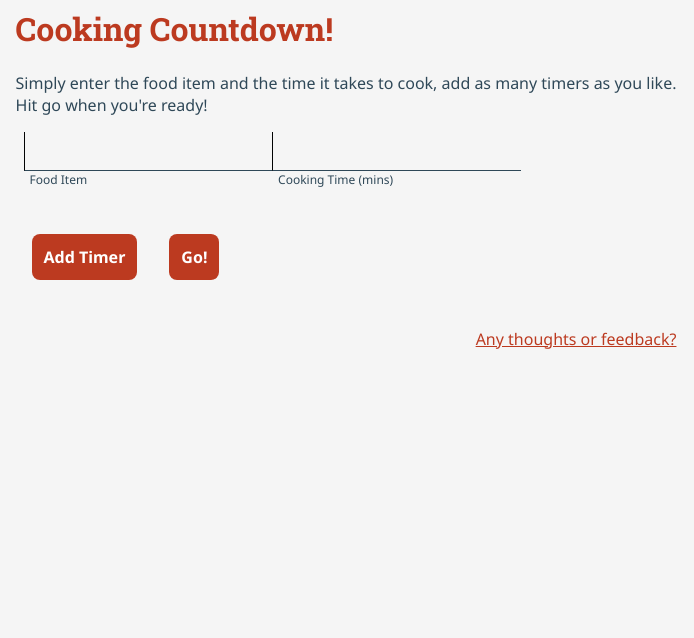
Scenario: <App /> › renders minute or minutes correctly
Click the button "Add Timer" at (84, 257), box [32,234,137,280]
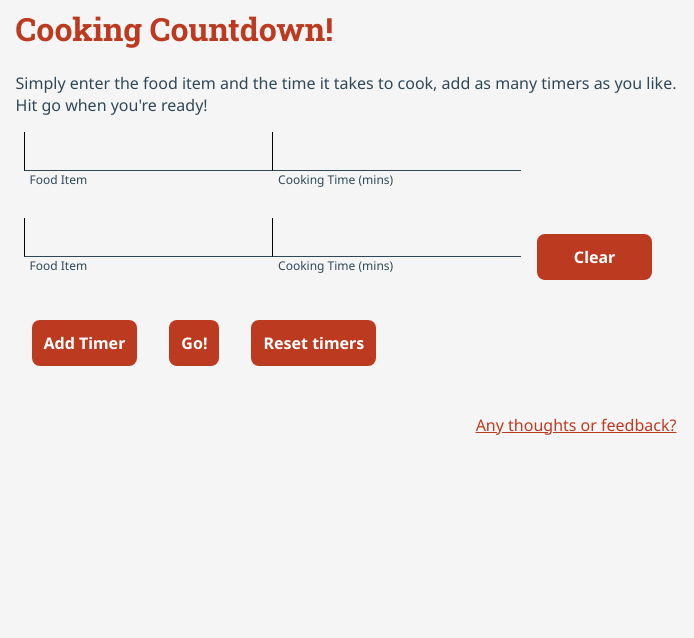
Type "Food A" into the 1st field labelled "Food Item" at (148, 151), box [24,132,272,171]
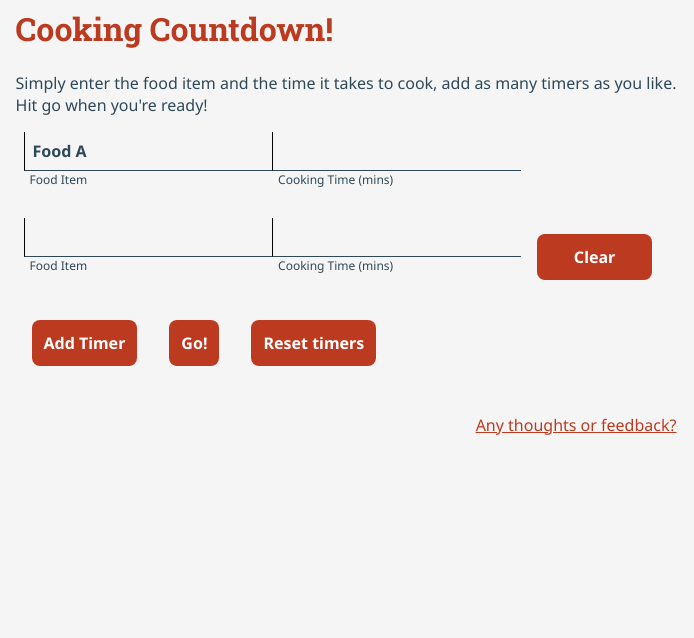
Type "Food B" into the 2nd field labelled "Food Item" at (148, 237), box [24,218,272,257]
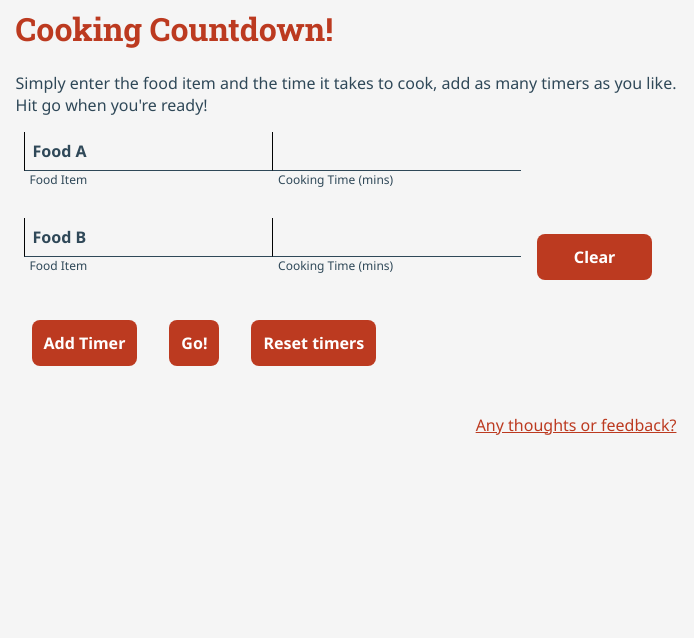
Type "2" into the 1st number field labelled "Cooking Time (mins)" at (396, 151), box [272,132,521,171]
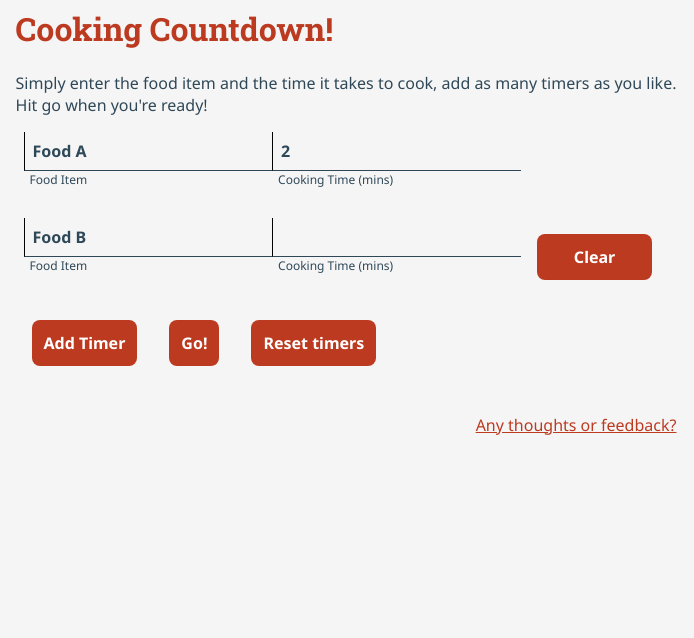
Type "1" into the 2nd number field labelled "Cooking Time (mins)" at (396, 237), box [272,218,521,257]
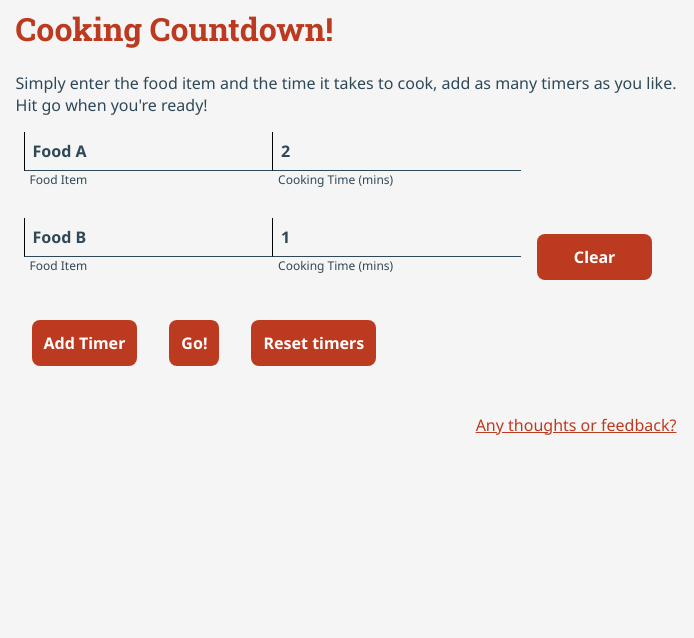
Click the button "Go!" at (194, 343), box [169,320,219,366]
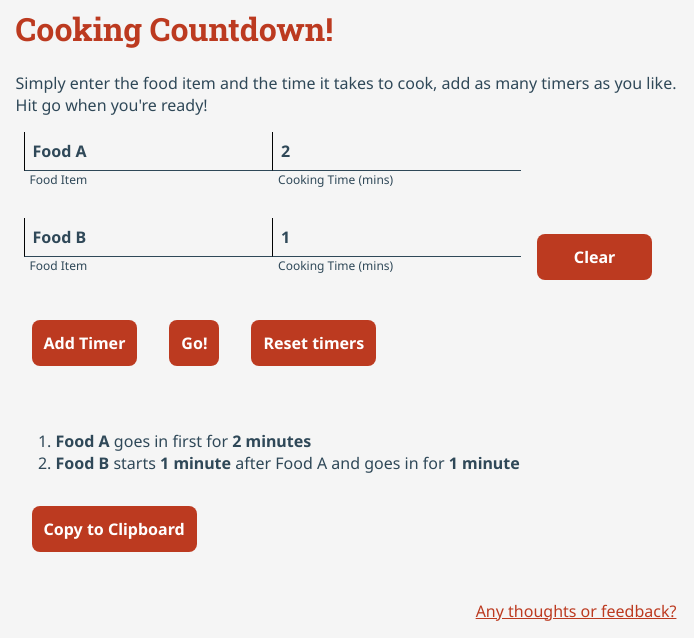
Result: the number of list items is 2 at [56,430,311,452]; [56,452,520,474]
Result: the list item "Food A goes in first for 2 minutes" is shown at [56,430,311,452]
Result: the list item "Food B starts 1 minute after Food A and goes in for 1 minute" is shown at [56,452,520,474]
